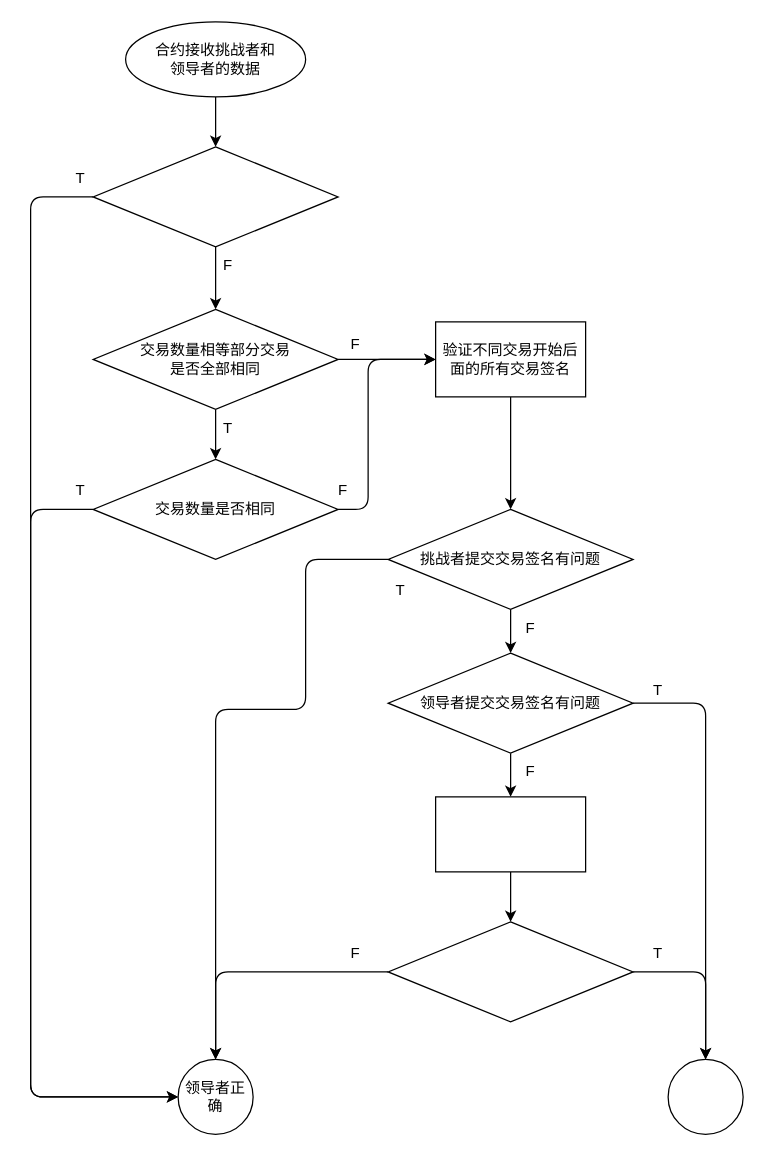
This 765x1156 diagram has some shape labels left out. The centre of each missing label's shape, as x and y in pixels:
挑战者提交交易数量多: (x=510, y=971)
挑战者正确: (x=705, y=1096)
都没有问题，则根据交易数量判读: (x=510, y=834)
默克尔树根是否相同: (x=215, y=196)
